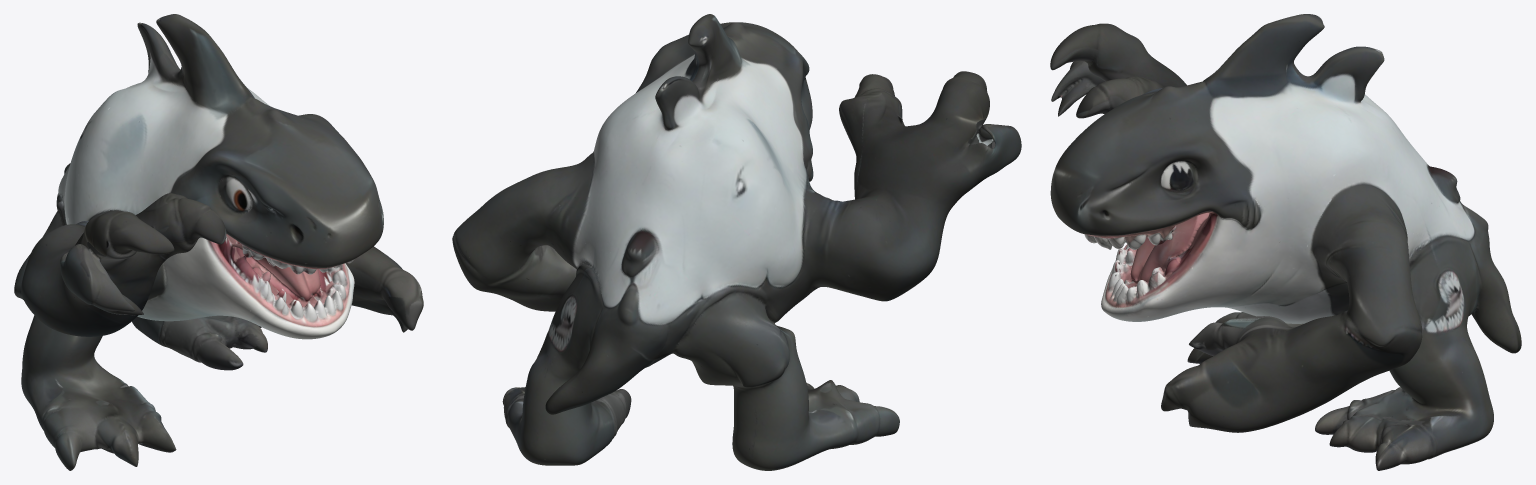
3 views of the same model, side by side, from view 1: azimuth 30°, elevation 25°; view 2: azimuth 150°, elevation 25°; view 3: azimuth 270°, elevation 25° (orthographic). The views are drawn at different scales.
Visible parts, largest first — view 1: mesh_0; view 2: mesh_0; view 3: mesh_0.
Boxes of the visible parts, x1,y1,x2,y2 form: mesh_0: [14, 14, 423, 470]; mesh_0: [452, 14, 1021, 470]; mesh_0: [1050, 14, 1521, 470].
Bounding box in the file's own units: 2 × 1.87 × 2.
Materials: 1 (1 with a texture image).
